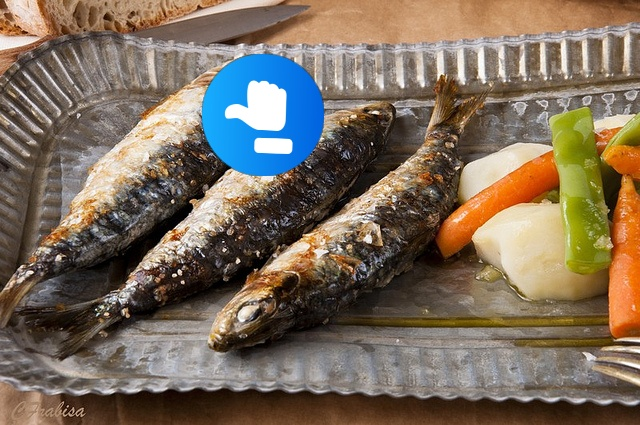like: (202, 54, 324, 176)
